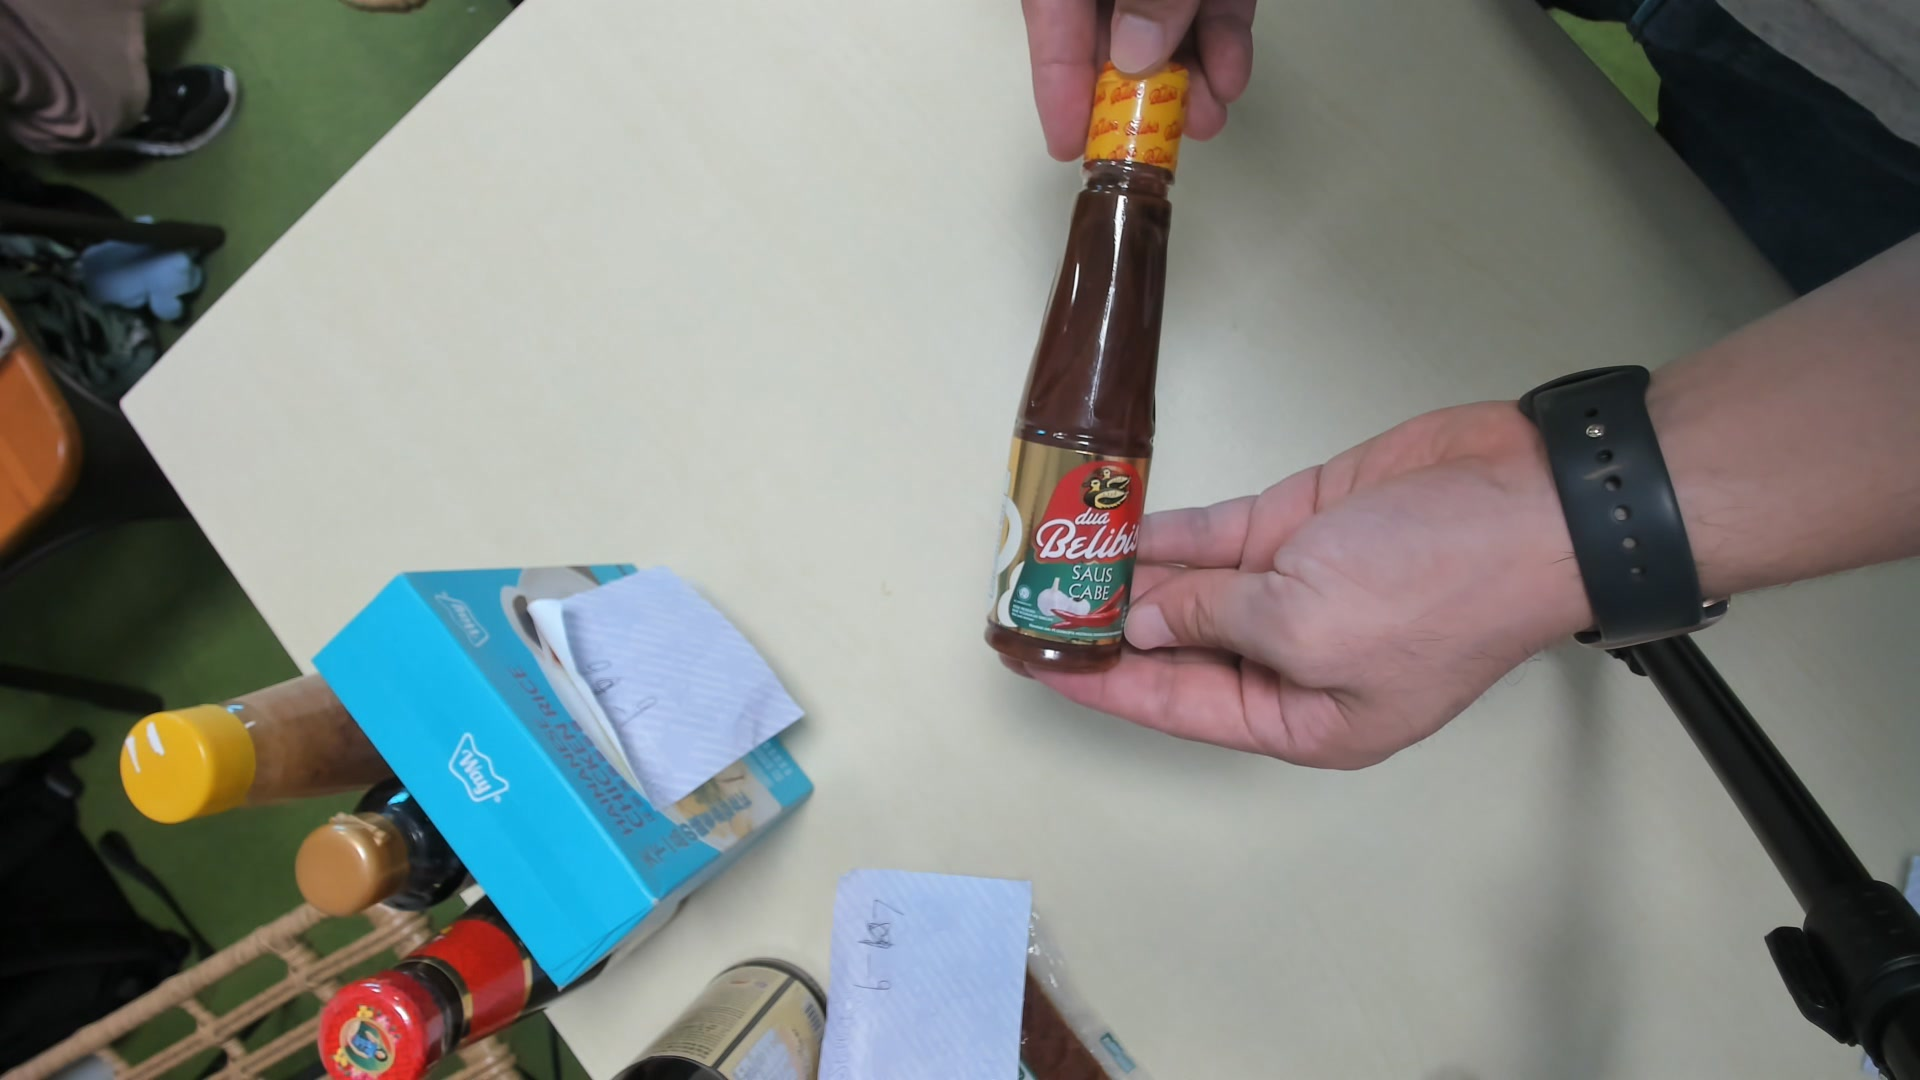KetchupChillSauce_100-199g_Halal_NonHealthy: (981, 65, 1192, 670)
